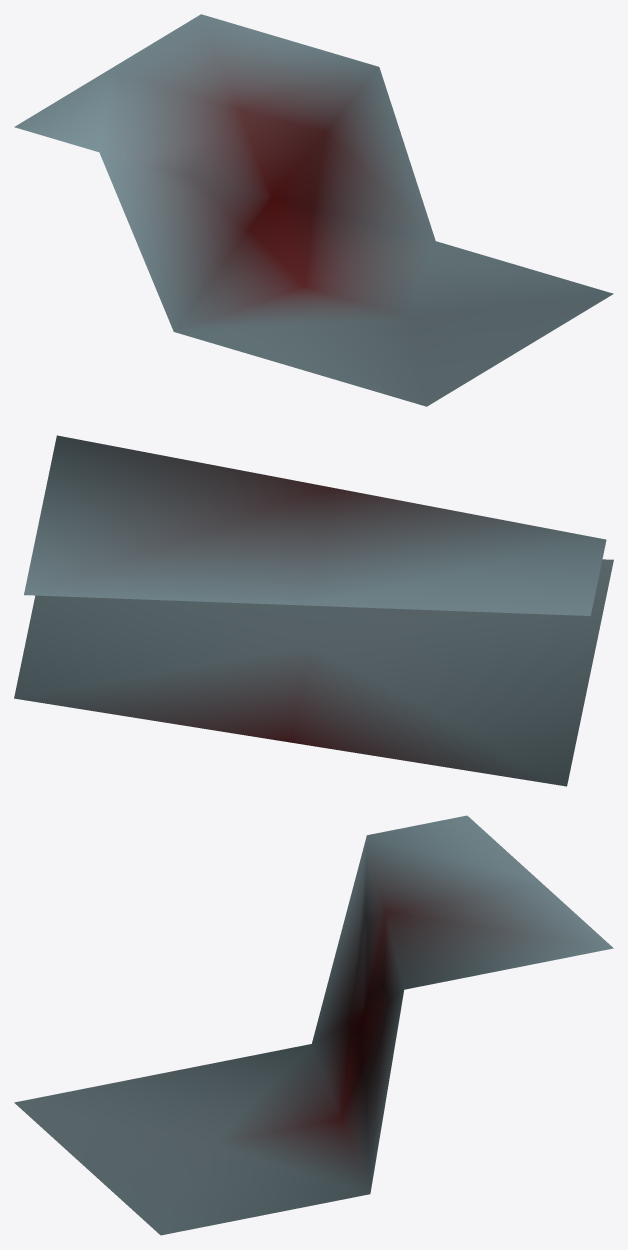
The model's file is drape.glb.
3 views of the same model, one above another, from view 1: azimuth 30°, elevation 25°; view 2: azimuth 150°, elevation 25°; view 3: azimuth 270°, elevation 25° (orthographic). The views are drawn at different scales.
Visible parts, largest first — view 1: drape; view 2: drape; view 3: drape.
Part boxes in pixels (box(x1,y1,x2,y2)): drape: box(14, 14, 613, 406); drape: box(14, 435, 613, 786); drape: box(14, 815, 613, 1235).
Size of the model in its own units: 3.23 by 1.17 by 3.46.
